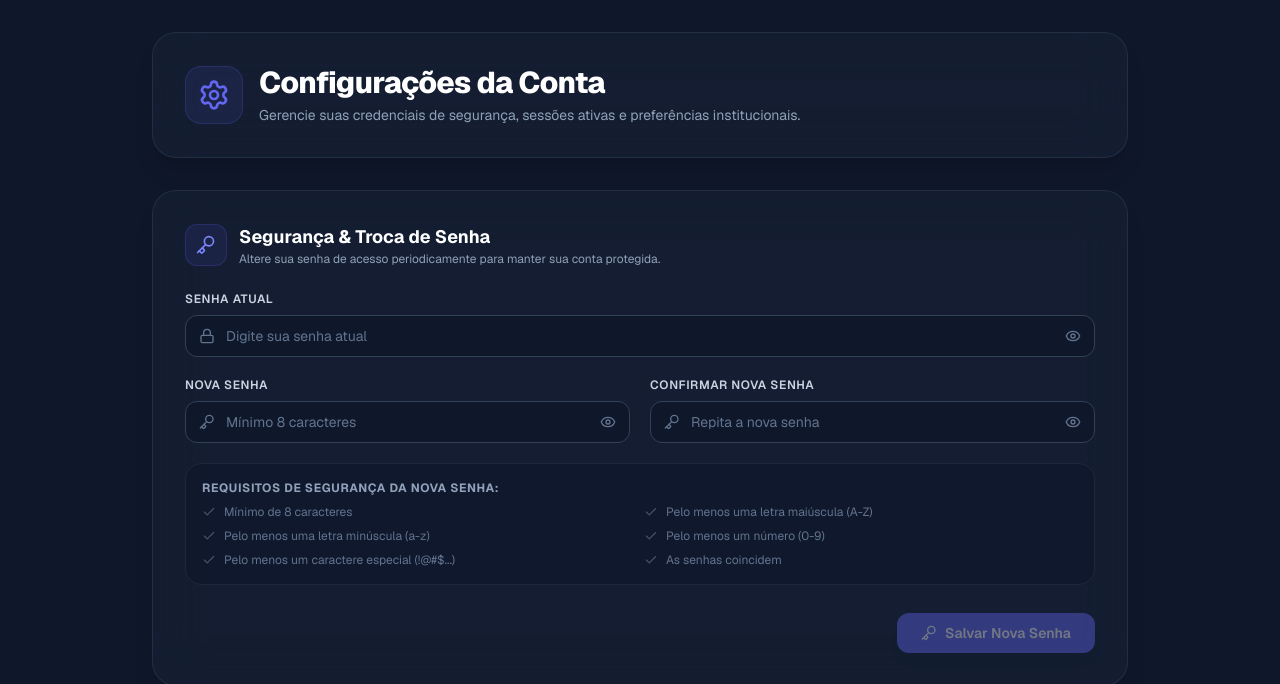
it: UI: ConfiguracoesClient › deve exibir alerta caso a API retorne erro ao alterar senha
This screenshot has width=1280, height=684.
Type "SenhaErrada123!" into the password field labelled "Senha Atual" at (640, 336), box 185,315 -> 1095,357
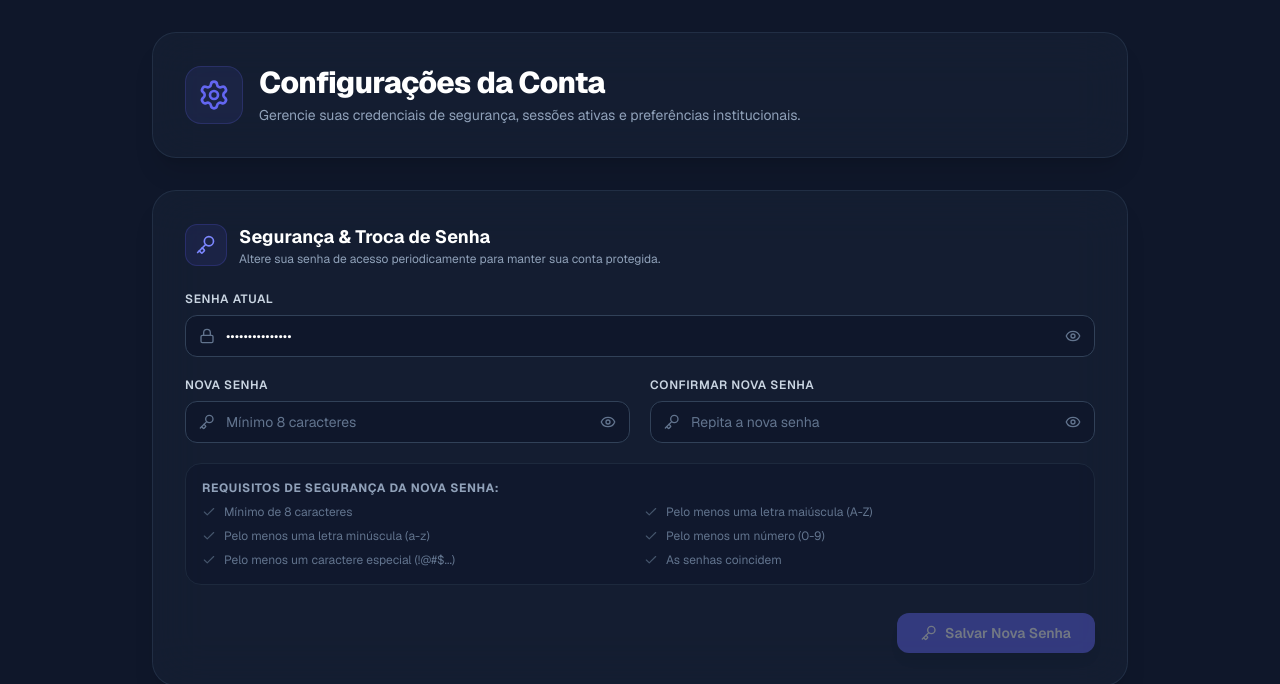
Type "NovaSenhaForte123!" into the password field labelled "Nova Senha" at (408, 422), box 185,401 -> 630,443
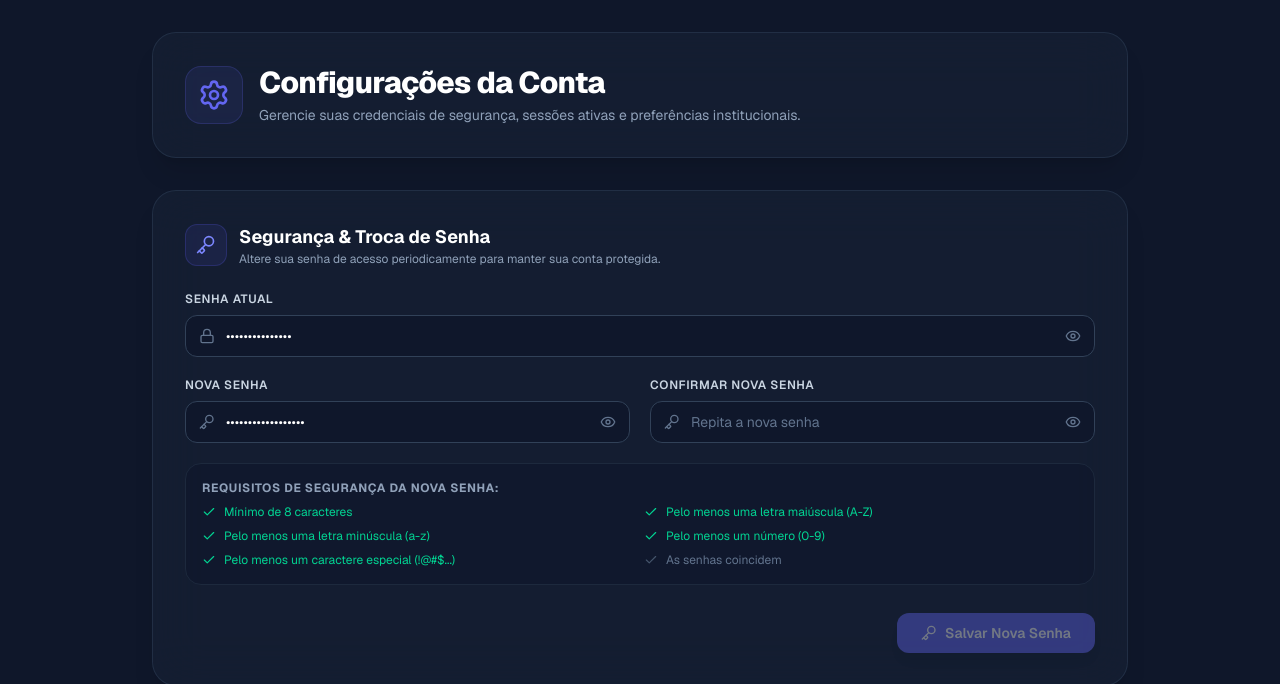
Type "NovaSenhaForte123!" into the password field labelled "Confirmar Nova Senha" at (872, 422), box 650,401 -> 1095,443
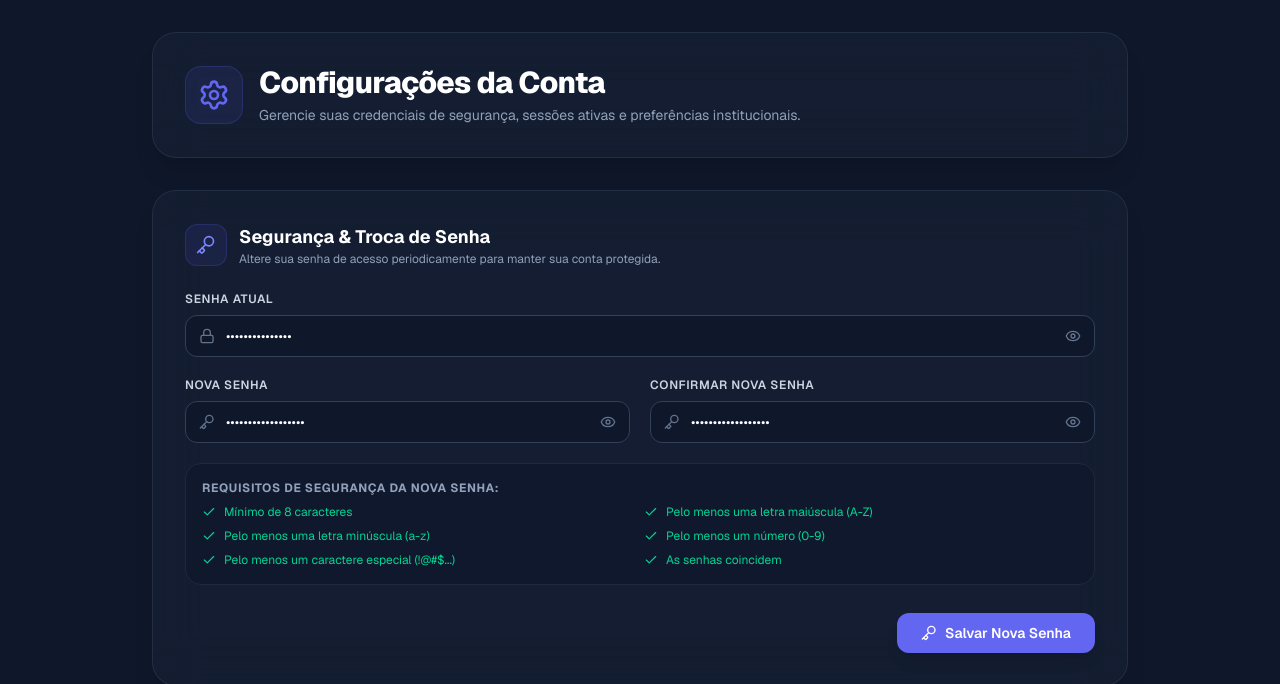
Click the button "Salvar Nova Senha" at (996, 633), box 897,613 -> 1095,653
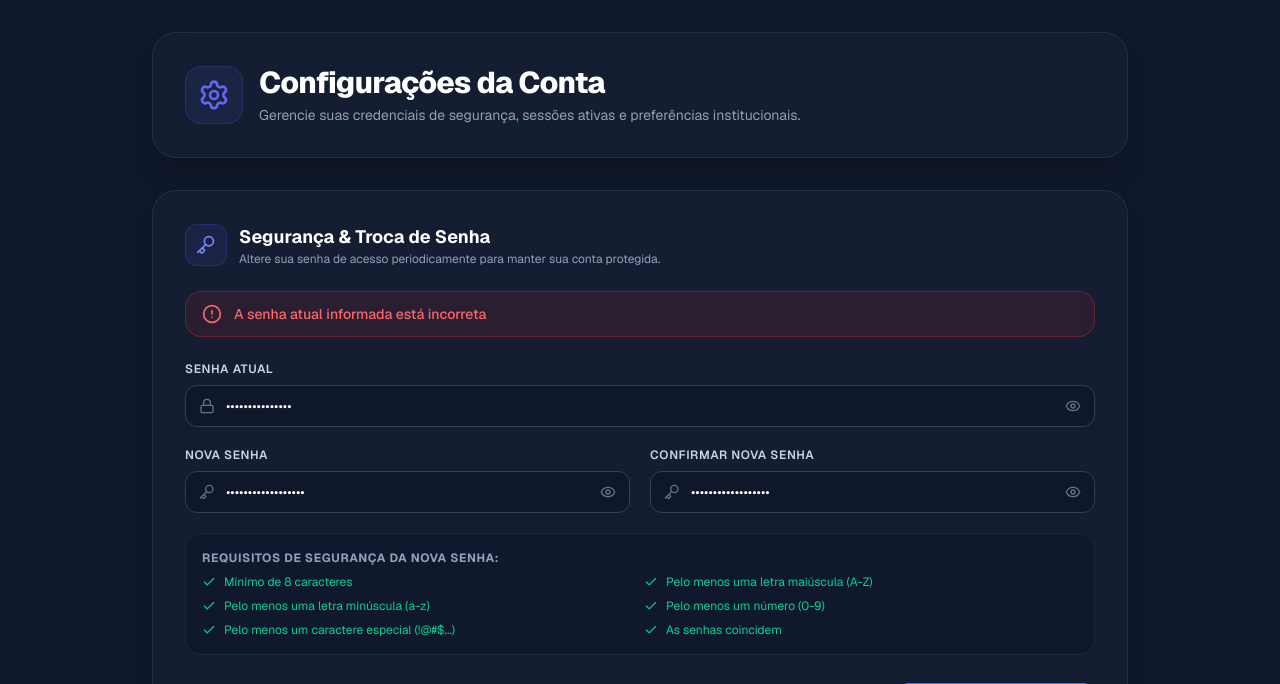
Now the text "A senha atual informada está incorreta" is shown, box 234,304 -> 486,324
